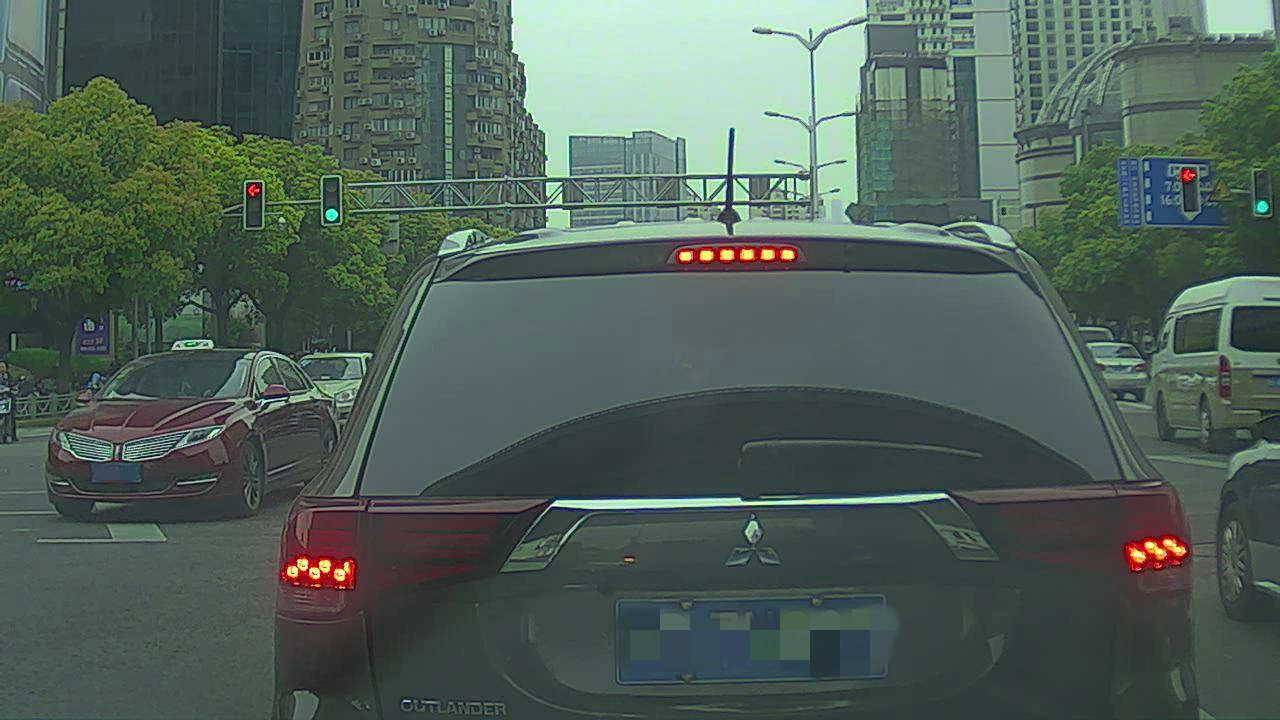traffic_light: (319, 173, 345, 230), (241, 174, 266, 227), (1178, 169, 1205, 217), (1254, 169, 1270, 214)
